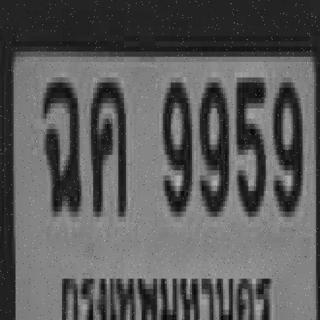A04: (89, 72, 124, 212)
A09: (40, 72, 80, 212)
N05: (235, 72, 264, 212)
N09: (161, 77, 190, 212), (198, 77, 227, 212), (272, 77, 300, 212)
P04: (61, 261, 282, 320)
